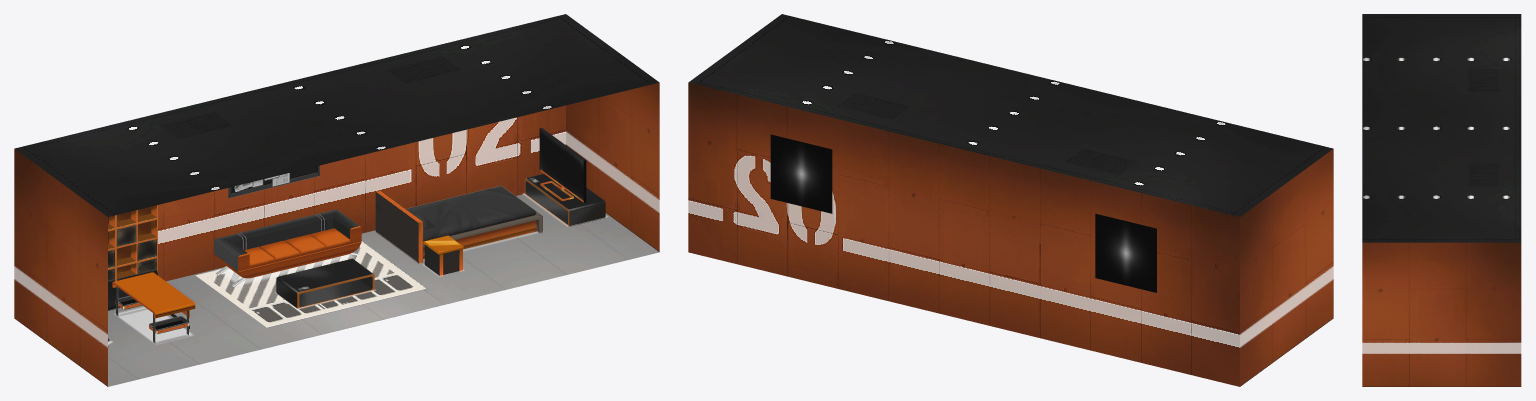
3 renders of one model, left to right at view 1: azimuth 30°, elevation 25°; view 2: azimuth 150°, elevation 25°; view 3: azimuth 270°, elevation 25°, orthographic. The views are drawn at different scales.
Visible parts, largest first — view 1: ROOM_room, ROOM_floor, furni_s1_bed_01, furni_s1_sofa_01, furni_s1_carpet_01, furni_s1_bookcase_01, furni_s1_coffeetable_01, furni_s1_comdesk_01, furni_s1_tv_01, furni_s1_tvtable_01, ROOM_LDoor, ROOM_RDoor (+4 smaller); view 2: ROOM_room, light.001, light, ROOM_LDoor; view 3: ROOM_room, ROOM_RDoor.
Part boxes in pixels (x1,y1,x2,y2): ROOM_room: (14,14,659,386); ROOM_floor: (108,194,659,386); furni_s1_bed_01: (375,185,542,263); furni_s1_sofa_01: (214,209,361,286); furni_s1_carpet_01: (195,241,426,327); furni_s1_bookcase_01: (108,205,157,310); furni_s1_coffeetable_01: (276,258,374,308); furni_s1_comdesk_01: (112,272,195,343); furni_s1_tv_01: (539,128,586,202); furni_s1_tvtable_01: (524,173,605,226); ROOM_LDoor: (75,286,94,376); ROOM_RDoor: (626,151,645,241); ROOM_room: (688,14,1333,386); light.001: (770,134,832,213); light: (1095,213,1156,292); ROOM_LDoor: (1300,251,1319,341); ROOM_room: (1362,14,1521,386); ROOM_RDoor: (1385,321,1418,386).
Size of the model in its own units: 7.48 by 2.2 by 2.21.
Materials: 5 (5 with a texture image).
